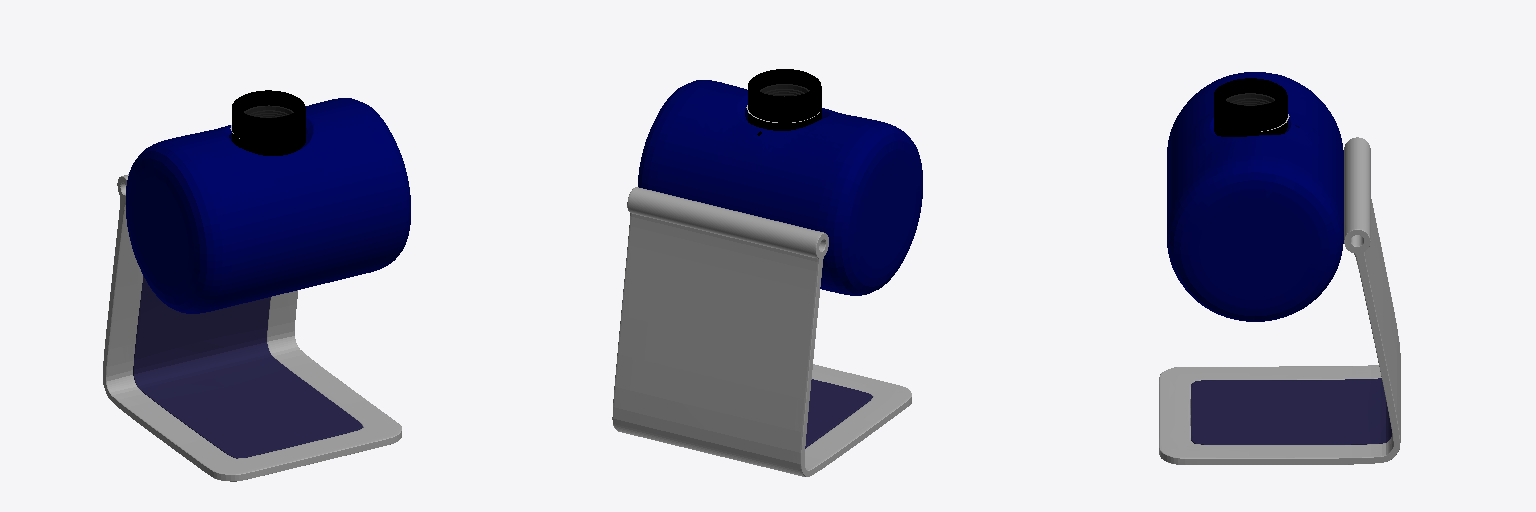
The model's file is camera.obj.
3 renders of one model, left to right at view 1: azimuth 30°, elevation 25°; view 2: azimuth 150°, elevation 25°; view 3: azimuth 270°, elevation 25°, orthographic.
Parts seen in each view (by area): view 1: Cylinder02, Circle01, Tube01; view 2: Circle01, Cylinder02, Tube01; view 3: Cylinder02, Circle01, Tube01.
Part boxes in pixels (x1,y1,x2,y2): Cylinder02: (126, 98, 410, 313); Circle01: (103, 174, 401, 481); Tube01: (232, 90, 305, 155); Circle01: (612, 187, 911, 476); Cylinder02: (638, 80, 922, 295); Tube01: (748, 69, 821, 135); Cylinder02: (1167, 72, 1343, 321); Circle01: (1159, 137, 1400, 464); Tube01: (1214, 78, 1287, 136).
Size of the model in its own units: 0.1497 by 0.2167 by 0.1457.